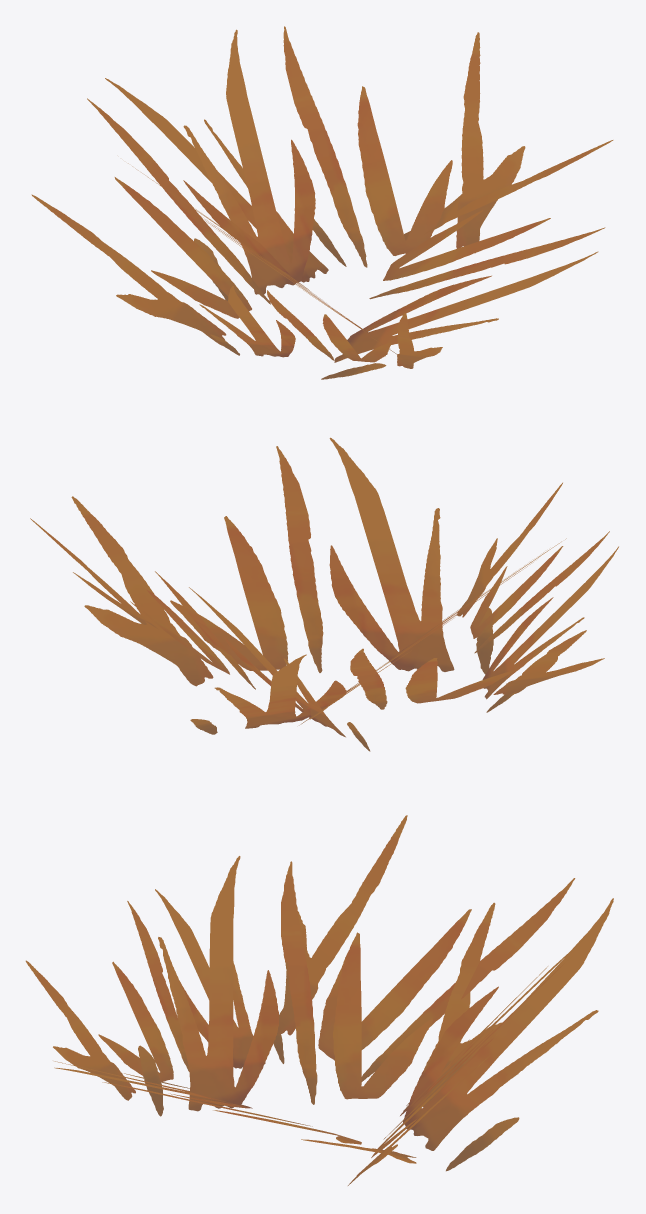
File: GrassClump.fbx
3 views of the same model, one above another, from view 1: azimuth 30°, elevation 25°; view 2: azimuth 150°, elevation 25°; view 3: azimuth 270°, elevation 25° (orthographic). The views are drawn at different scales.
Visible parts, largest first — view 1: Plane.006, Plane.032, Plane.031, Plane.033, Plane.030; view 2: Plane.031, Plane.032, Plane.033, Plane.006, Plane.030; view 3: Plane.030, Plane.032, Plane.033, Plane.006, Plane.031.
Part boxes in pixels (x1=…): Plane.006: x1=183, y1=26, x2=525, y2=300; Plane.032: x1=31, y1=78, x2=346, y2=345; Plane.031: x1=321, y1=140, x2=613, y2=379; Plane.033: x1=199, y1=286, x2=442, y2=368; Plane.030: x1=128, y1=163, x2=396, y2=354; Plane.031: x1=71, y1=437, x2=493, y2=686; Plane.032: x1=190, y1=630, x2=604, y2=734; Plane.033: x1=456, y1=482, x2=618, y2=712; Plane.006: x1=30, y1=518, x2=370, y2=751; Plane.030: x1=299, y1=538, x2=566, y2=725; Plane.030: x1=138, y1=856, x2=502, y2=1116; Plane.032: x1=277, y1=815, x2=613, y2=1171; Plane.033: x1=25, y1=889, x2=284, y2=1100; Plane.006: x1=348, y1=934, x2=589, y2=1185; Plane.031: x1=54, y1=1061, x2=416, y2=1163.
Size of the model in its own units: 1.18 by 0.4236 by 1.03.
